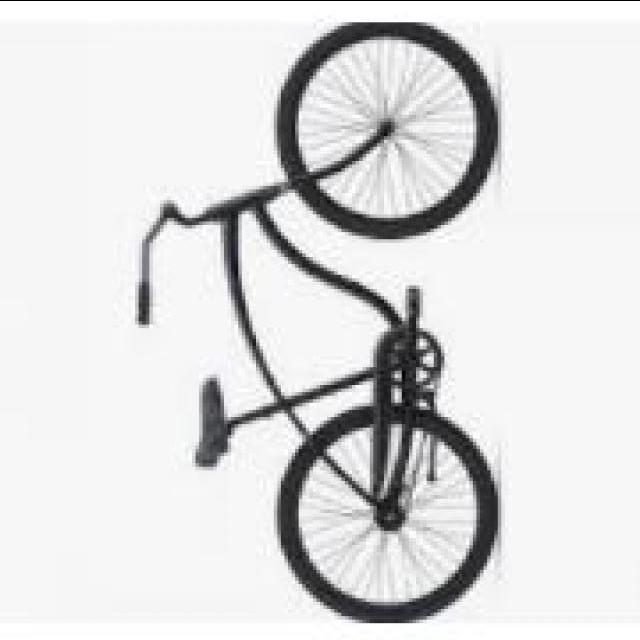bicycle: (129, 18, 491, 630)
